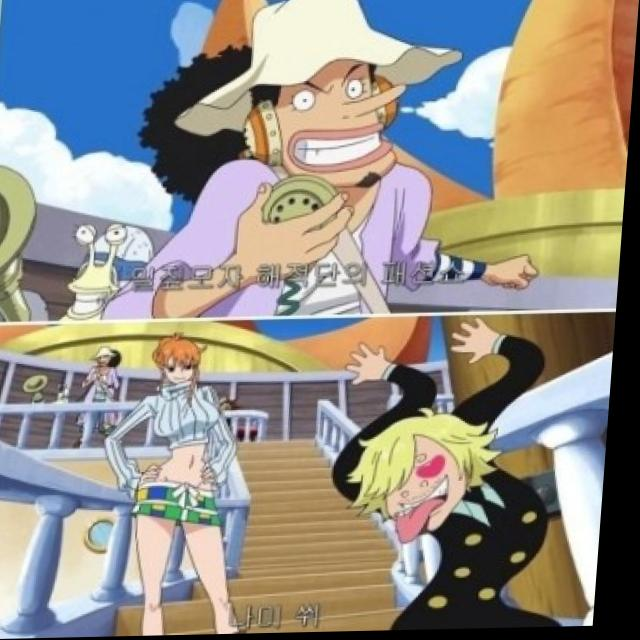Nami: (148, 325, 235, 394)
Sangdi: (346, 406, 509, 559)
Usopp: (189, 0, 423, 212)
